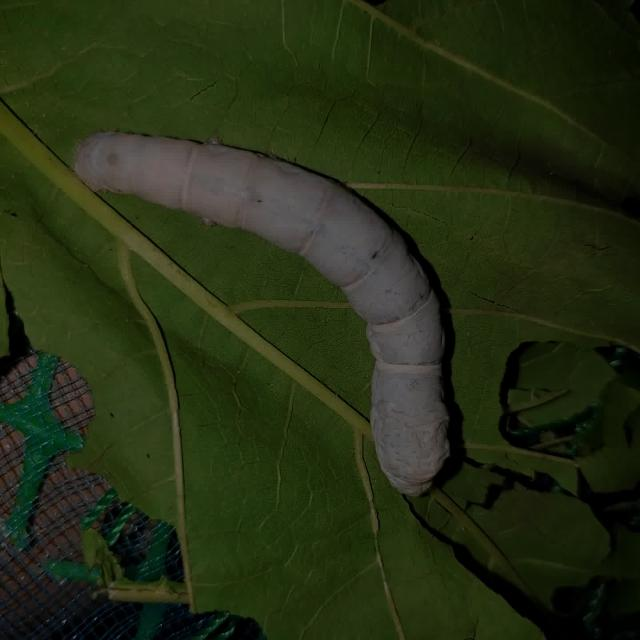Healthy: (56, 102, 468, 507)
